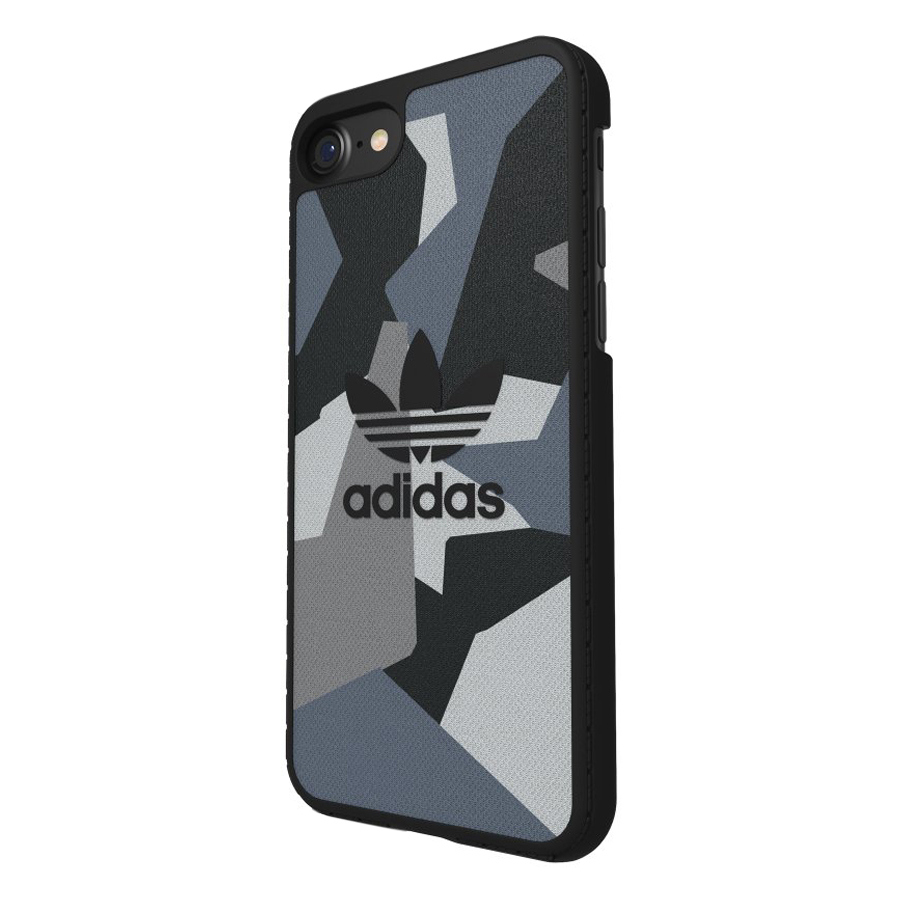Adidas: (335, 324, 522, 527)
